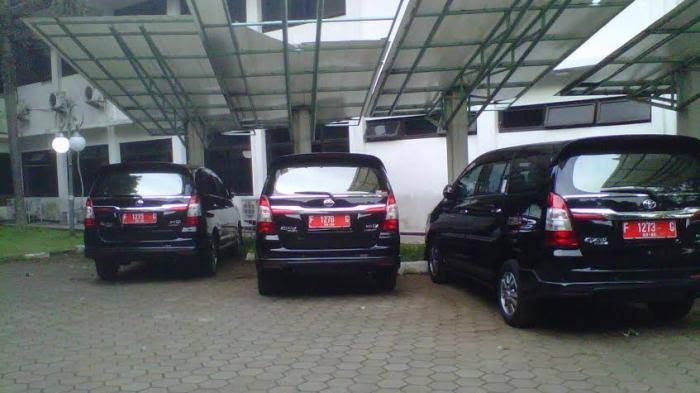plate: (623, 219, 677, 238), (309, 214, 351, 228), (122, 212, 156, 224)
